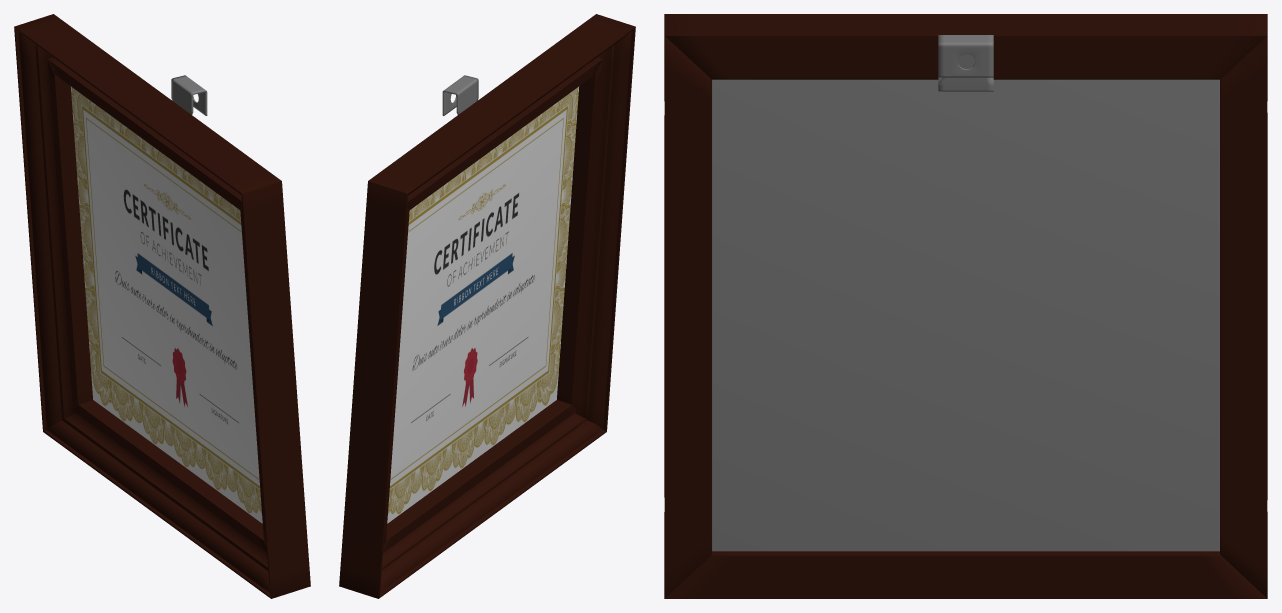
Rendered from Cuadro cuadrado.fbx.
3 views of the same model, side by side, from view 1: azimuth 30°, elevation 25°; view 2: azimuth 150°, elevation 25°; view 3: azimuth 270°, elevation 25° (orthographic). The views are drawn at different scales.
Visible parts, largest first — view 1: Mesh; view 2: Mesh; view 3: Mesh.
Boxes of the visible parts, left/top/right/bottom form: Mesh: left=14, top=14, right=310, bottom=598; Mesh: left=339, top=14, right=635, bottom=598; Mesh: left=664, top=14, right=1267, bottom=598.
Size of the model in its own units: 4.4 by 25.89 by 25.31.
